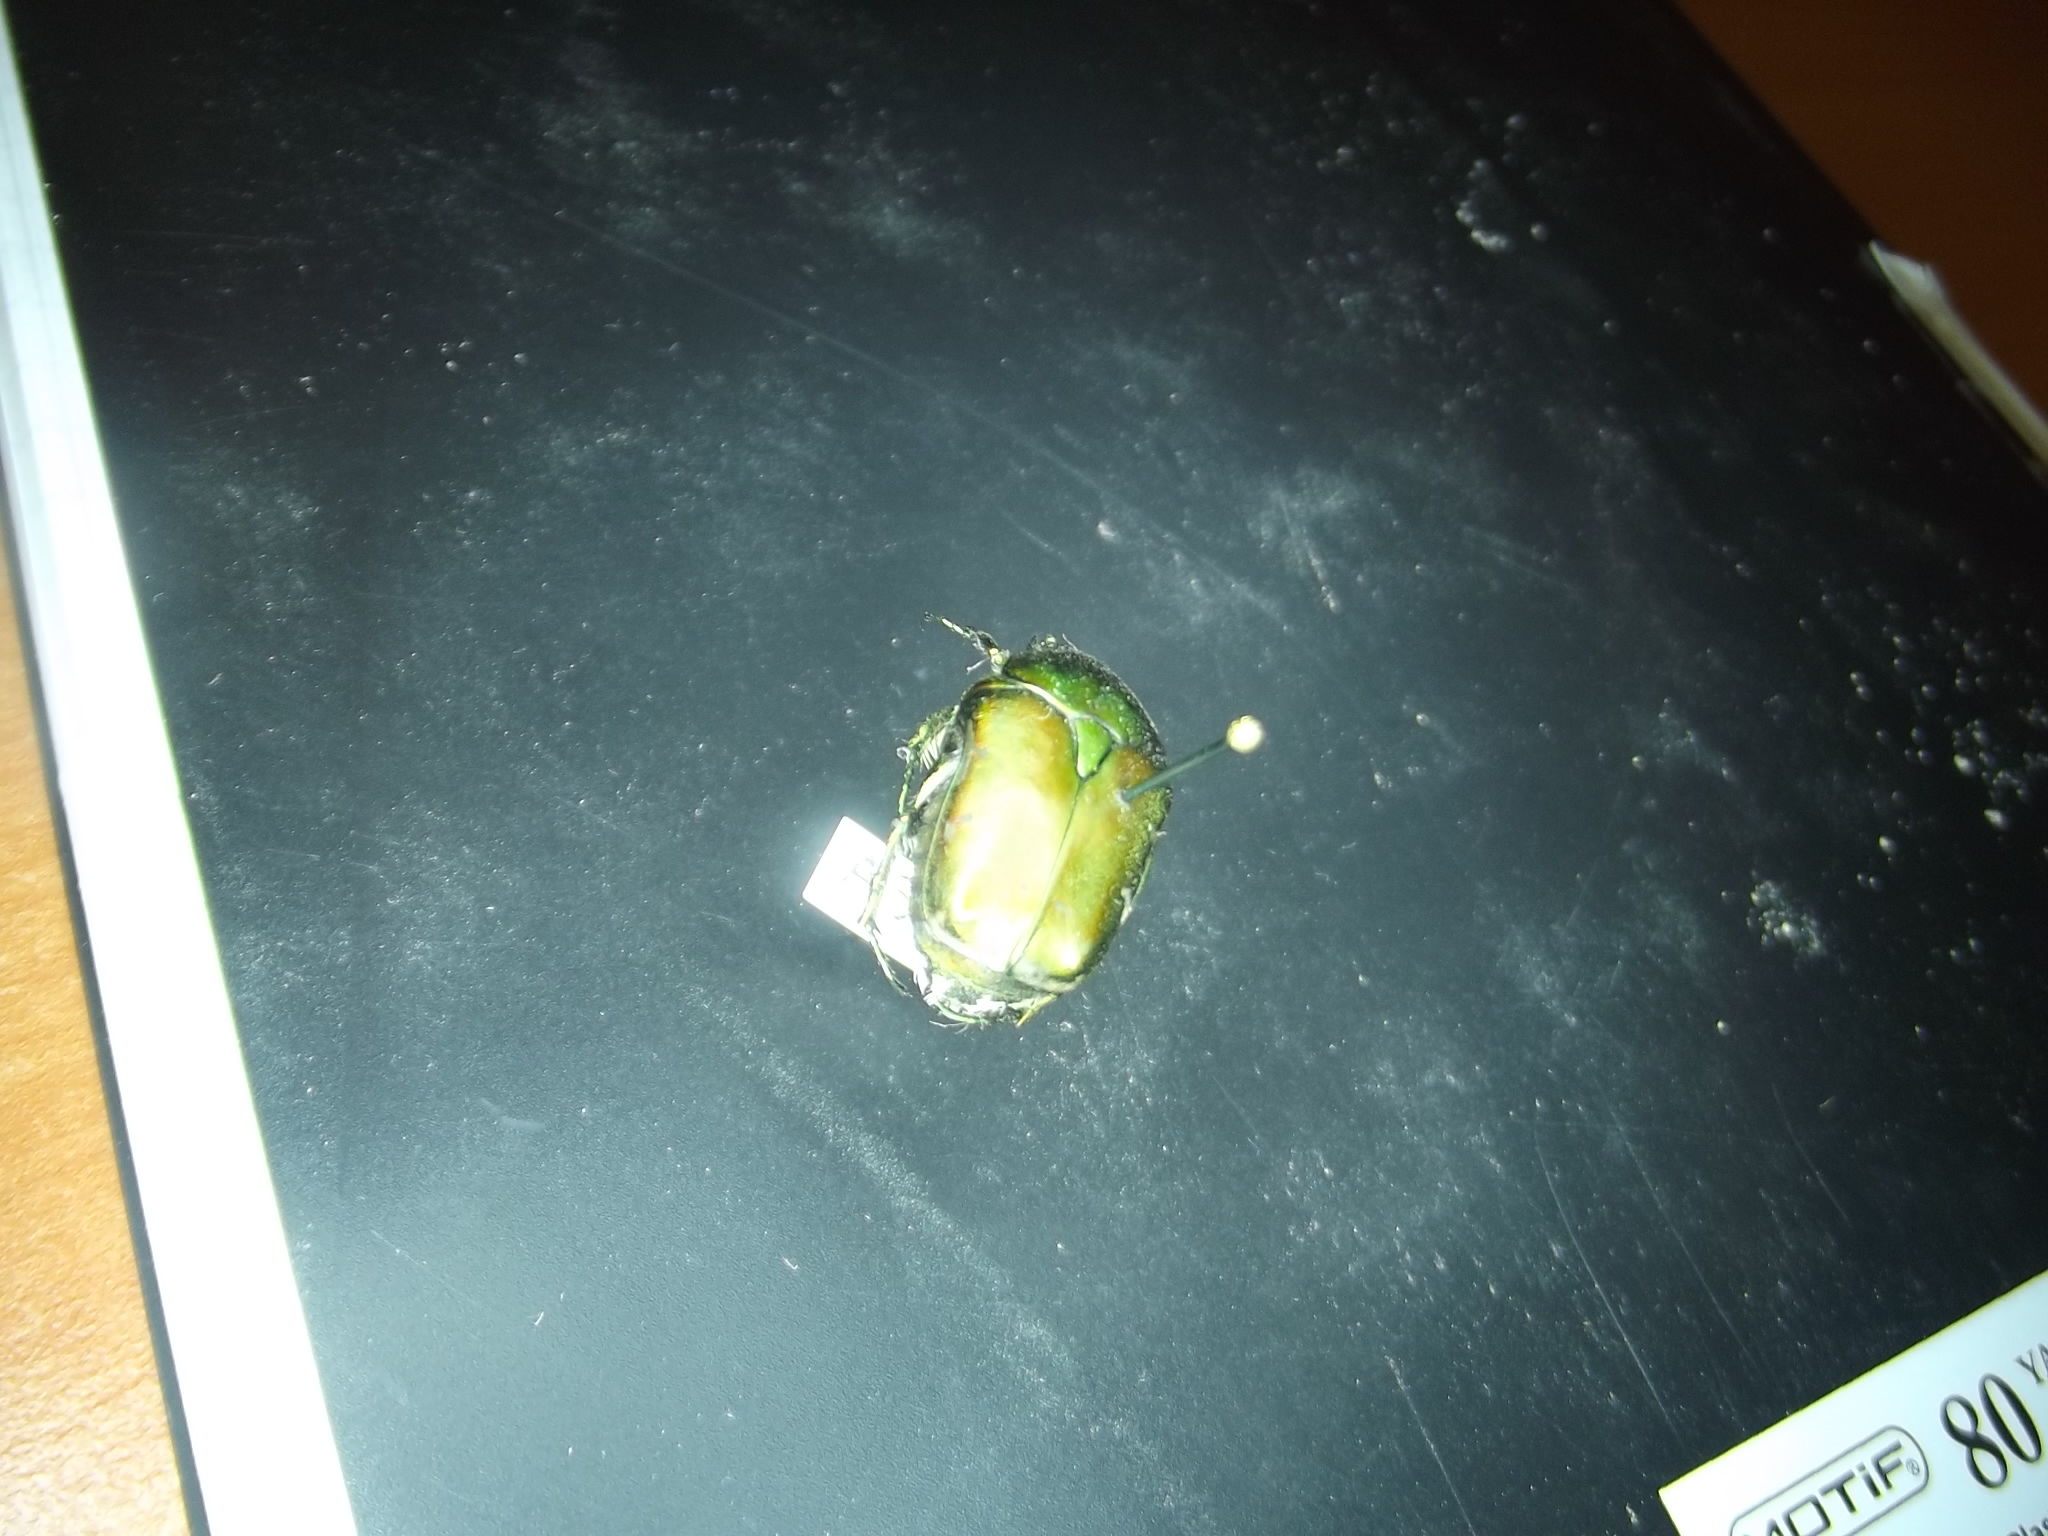Protaetia_ungarica_auliensis: (869, 581, 1197, 1028)
